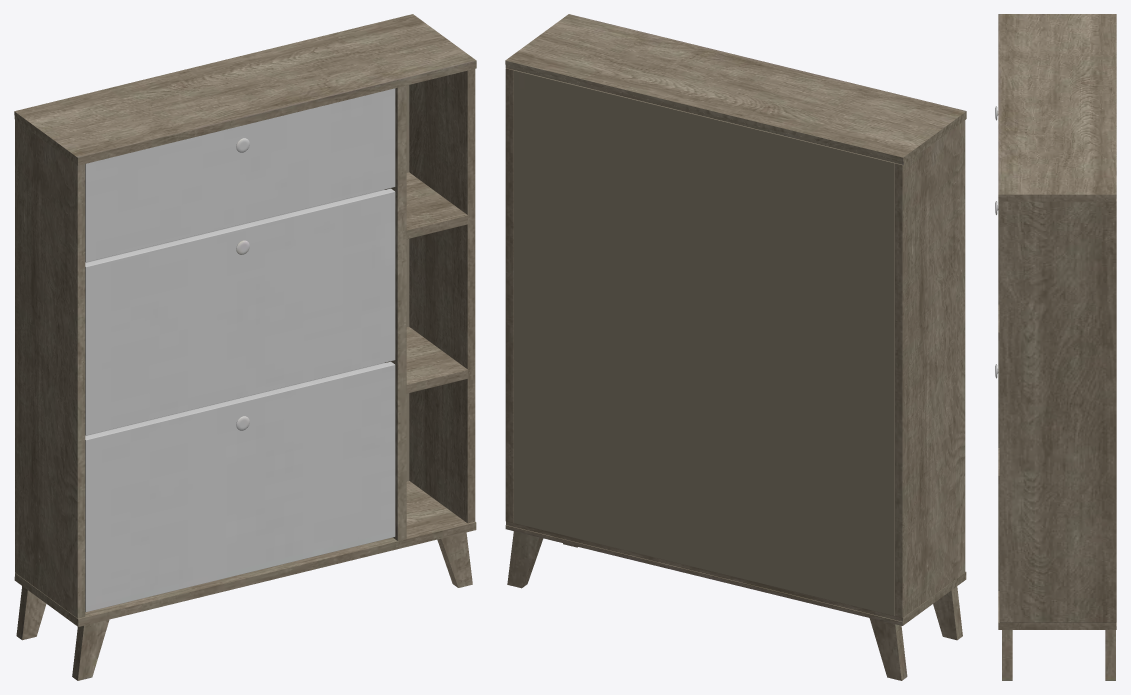
File: abo-B07RMYYSYT.glb
3 renders of one model, left to right at view 1: azimuth 30°, elevation 25°; view 2: azimuth 150°, elevation 25°; view 3: azimuth 270°, elevation 25°, orthographic. The views are drawn at different scales.
Bounding box in the file's own units: 0.902 × 1.13 × 0.256.
Materials: 1 (1 with a texture image).
